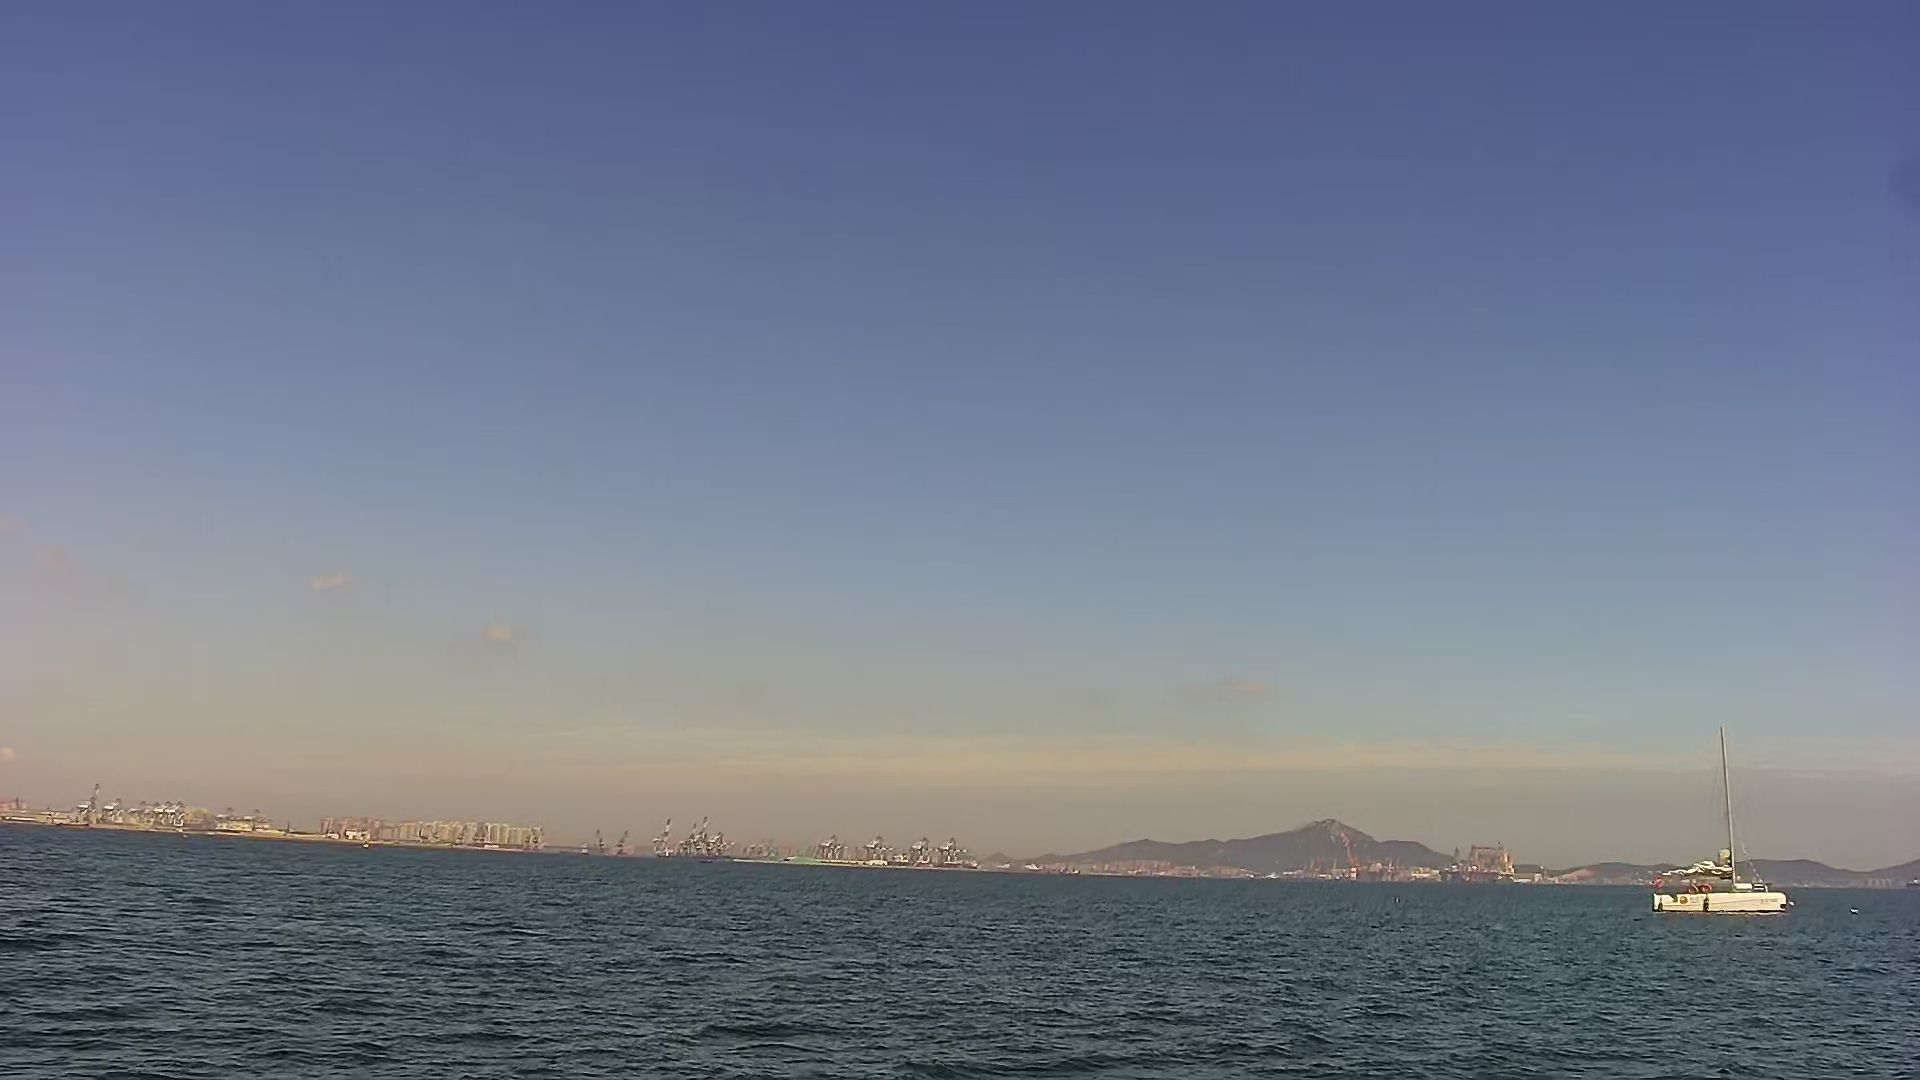boat: (1651, 720, 1789, 913)
